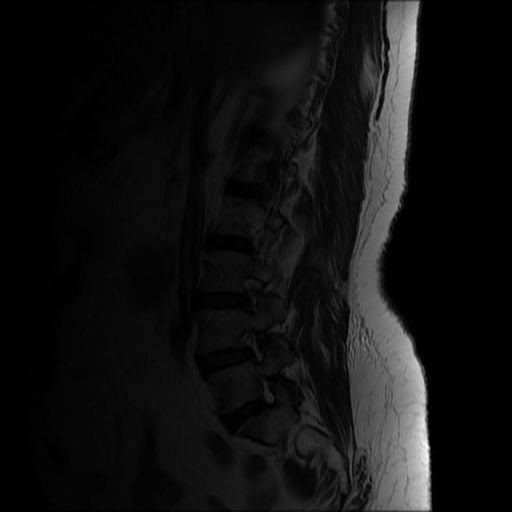RFS0: (227, 320, 275, 370), (228, 267, 272, 316)
